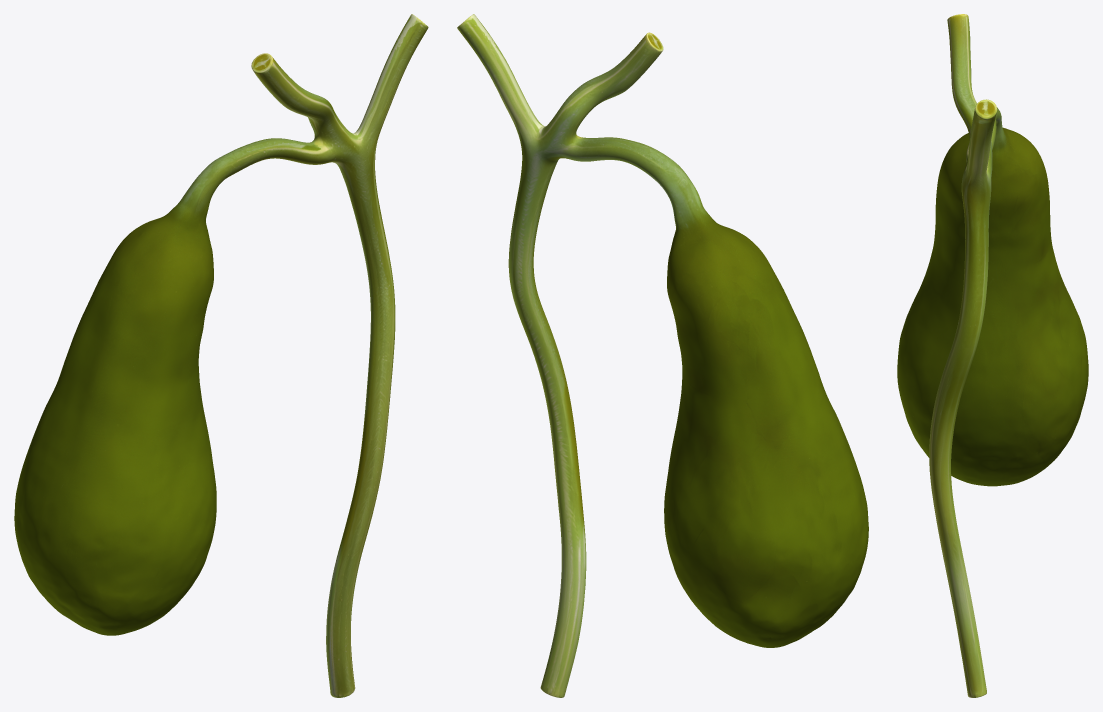
File: Meshy_AI_Bottle_gourd_0518181244_texture.fbx
3 views of the same model, side by side, from view 1: azimuth 30°, elevation 25°; view 2: azimuth 150°, elevation 25°; view 3: azimuth 270°, elevation 25° (orthographic). The views are drawn at different scales.
Visible parts, largest first — view 1: Mesh_0; view 2: Mesh_0; view 3: Mesh_0.
Part boxes in pixels (x1,y1,x2,y2): Mesh_0: [14, 14, 428, 697]; Mesh_0: [457, 14, 868, 697]; Mesh_0: [897, 14, 1088, 697].
Bounding box in the file's own units: 117 × 190 × 51.19.
Materials: 1 (1 with a texture image).
